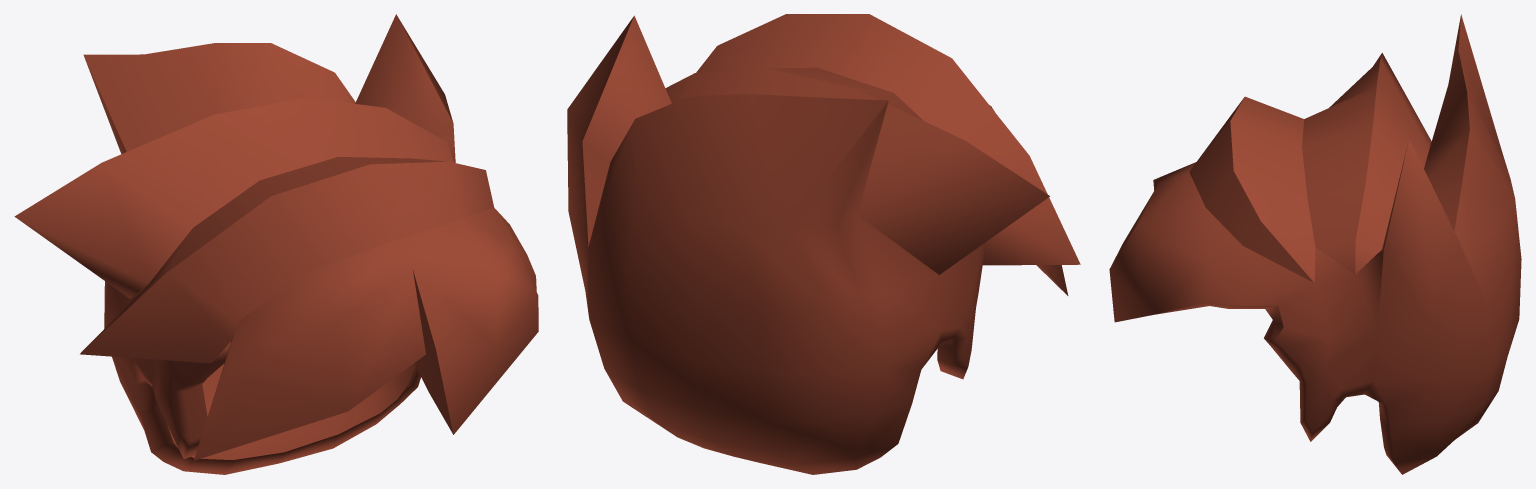
File: Hair_Brown_14.fbx
3 views of the same model, side by side, from view 1: azimuth 30°, elevation 25°; view 2: azimuth 150°, elevation 25°; view 3: azimuth 270°, elevation 25° (orthographic). The views are drawn at different scales.
Visible parts, largest first — view 1: Hair_Brown_14; view 2: Hair_Brown_14; view 3: Hair_Brown_14.
Boxes of the visible parts, x1,y1,x2,y2 form: Hair_Brown_14: (14,14,538,474); Hair_Brown_14: (567,14,1080,474); Hair_Brown_14: (1109,14,1521,474).
Size of the model in its own units: 72.54 by 64.55 by 65.91.
